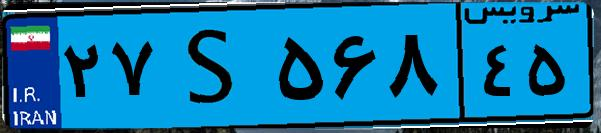2: (57, 26, 110, 100)
4: (475, 38, 525, 113)
5: (270, 28, 330, 110), (525, 38, 570, 115)
6: (330, 28, 385, 110)
7: (110, 28, 158, 98)
8: (385, 28, 445, 110)
S: (158, 12, 270, 120)
